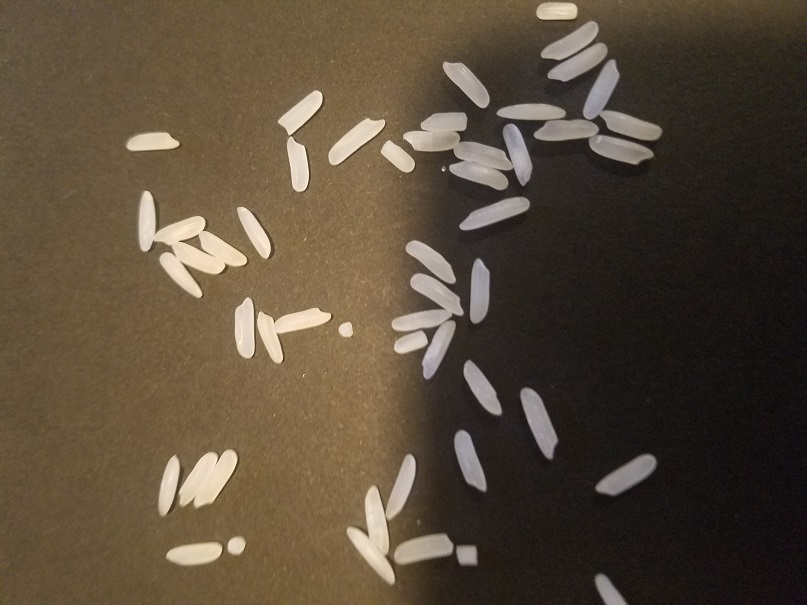egg: (344, 525, 400, 588), (594, 453, 658, 502), (327, 114, 386, 166), (587, 131, 657, 174), (192, 449, 242, 509), (519, 385, 559, 460), (543, 41, 610, 84), (459, 358, 505, 420), (442, 55, 493, 110), (401, 237, 458, 285), (581, 59, 626, 119), (382, 452, 421, 520), (539, 19, 602, 61), (457, 195, 532, 230), (417, 317, 457, 381), (406, 272, 465, 315), (175, 452, 220, 508), (449, 429, 488, 492), (595, 110, 665, 145), (277, 87, 325, 137), (391, 532, 454, 569), (364, 482, 394, 558), (159, 252, 206, 300), (502, 123, 536, 189), (199, 228, 250, 270), (448, 157, 511, 190), (235, 205, 273, 259), (276, 302, 334, 337), (387, 305, 454, 335), (155, 453, 185, 518), (172, 240, 228, 273), (281, 135, 312, 194), (255, 311, 287, 365), (453, 139, 512, 168), (152, 215, 206, 246), (166, 540, 224, 568), (532, 120, 601, 143), (468, 259, 491, 325), (497, 101, 569, 121), (135, 191, 158, 252), (589, 571, 630, 605), (234, 296, 256, 359), (381, 138, 418, 175), (124, 130, 182, 151), (404, 130, 461, 151), (419, 110, 470, 133), (393, 328, 430, 356), (534, 1, 579, 21), (455, 542, 478, 565), (227, 535, 247, 557), (338, 320, 353, 337)
